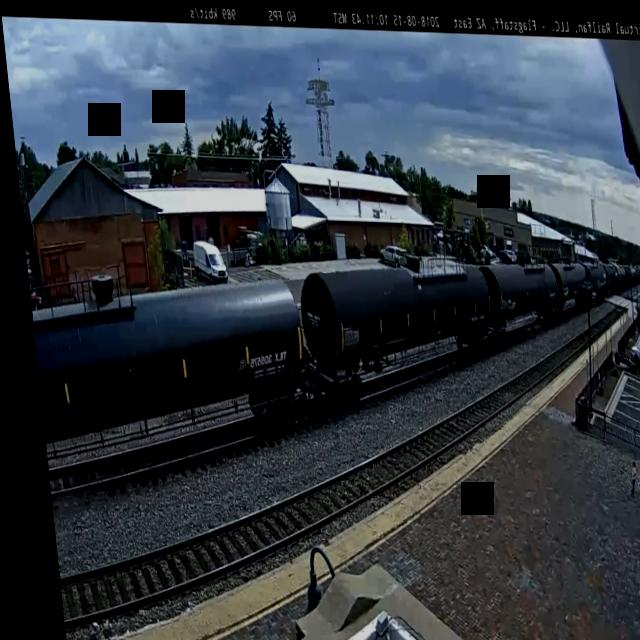tank: (20, 248, 315, 504), (285, 235, 498, 425), (477, 245, 560, 339)
